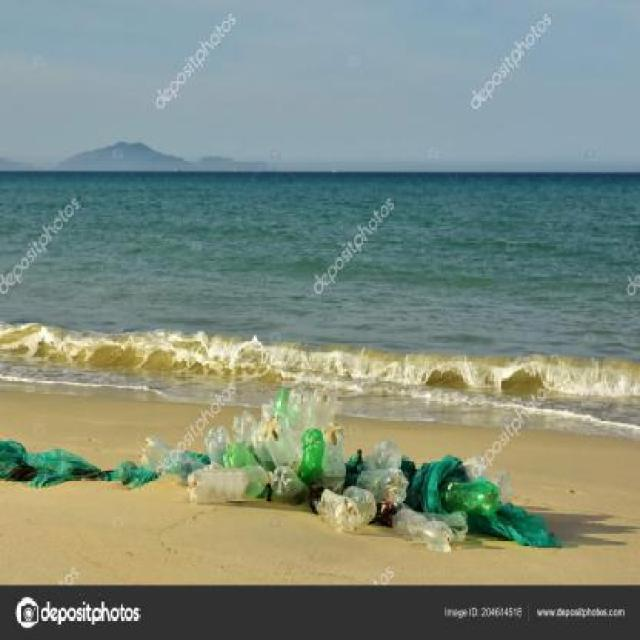a: (242, 369, 368, 540), (336, 424, 463, 553), (292, 422, 395, 538), (196, 398, 282, 526), (109, 414, 193, 520), (438, 461, 519, 569), (19, 426, 101, 503)
